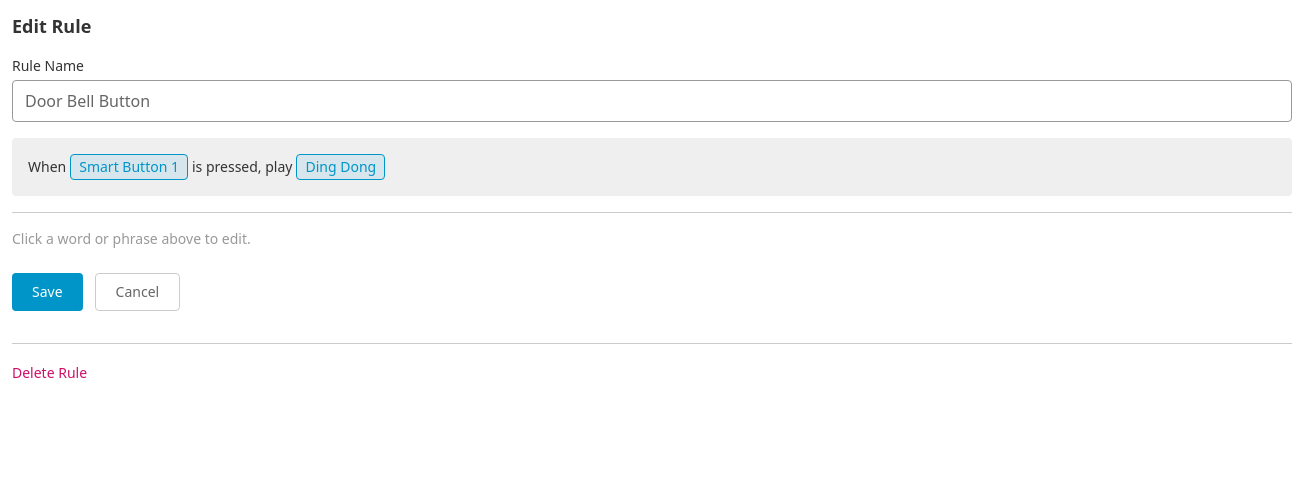
RulePanel (edit mode) › allows changing a variable selection via radio
Click the currently selected button variable to open subsection
Click the button "Smart Button 1" at (129, 167), box [70,154,188,180]
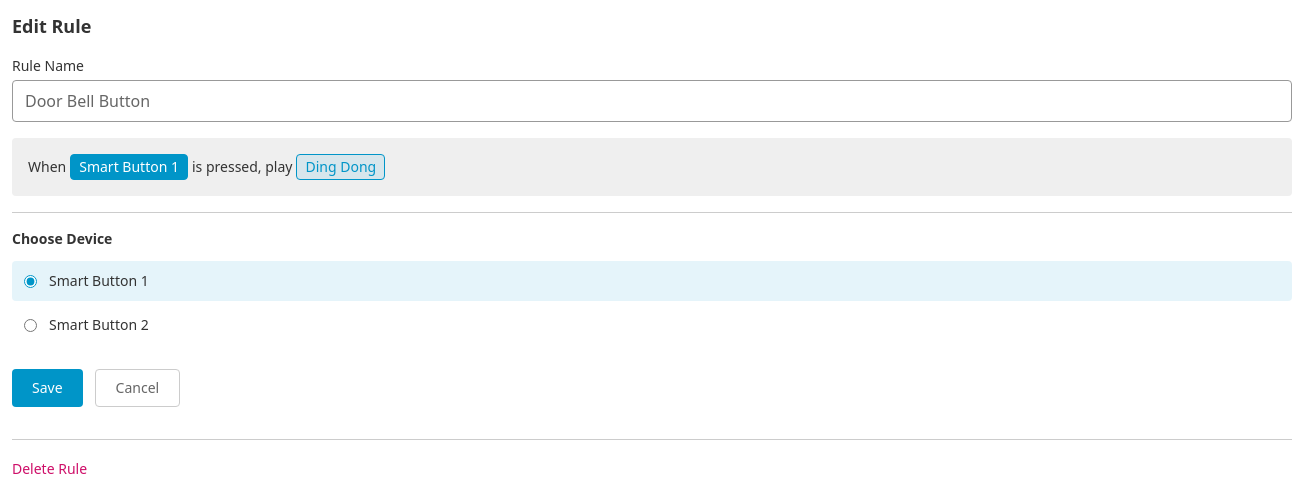
Now the heading "Choose Device" is shown, box [12,229,112,248]
Select a different device via radio
Click the radio button labelled "Smart Button 2" at (30, 325), box [24,318,37,332]
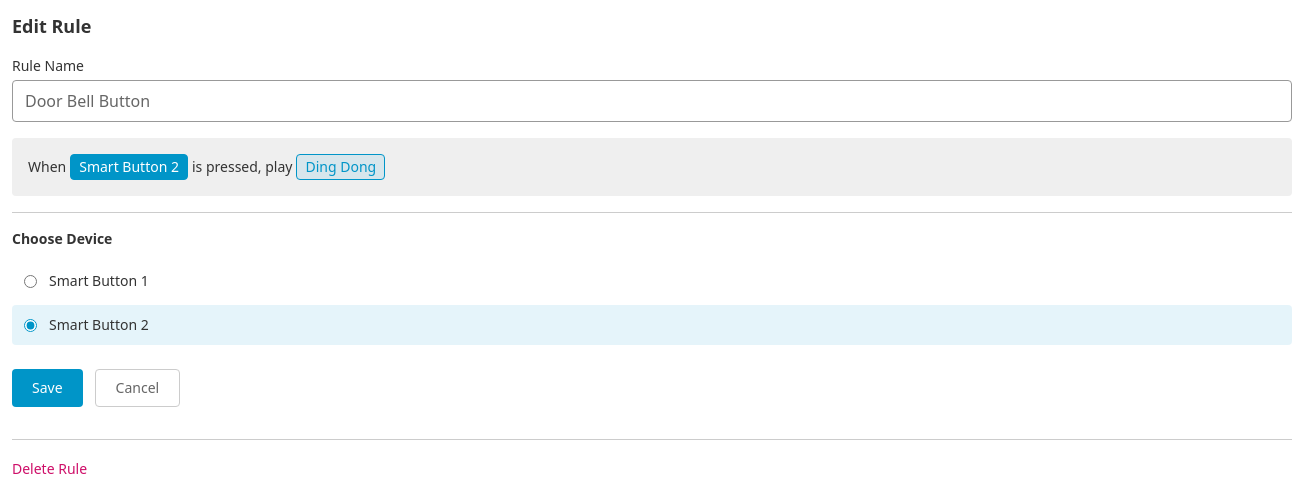
Now the button "Smart Button 2" is shown, box [70,154,188,180]
